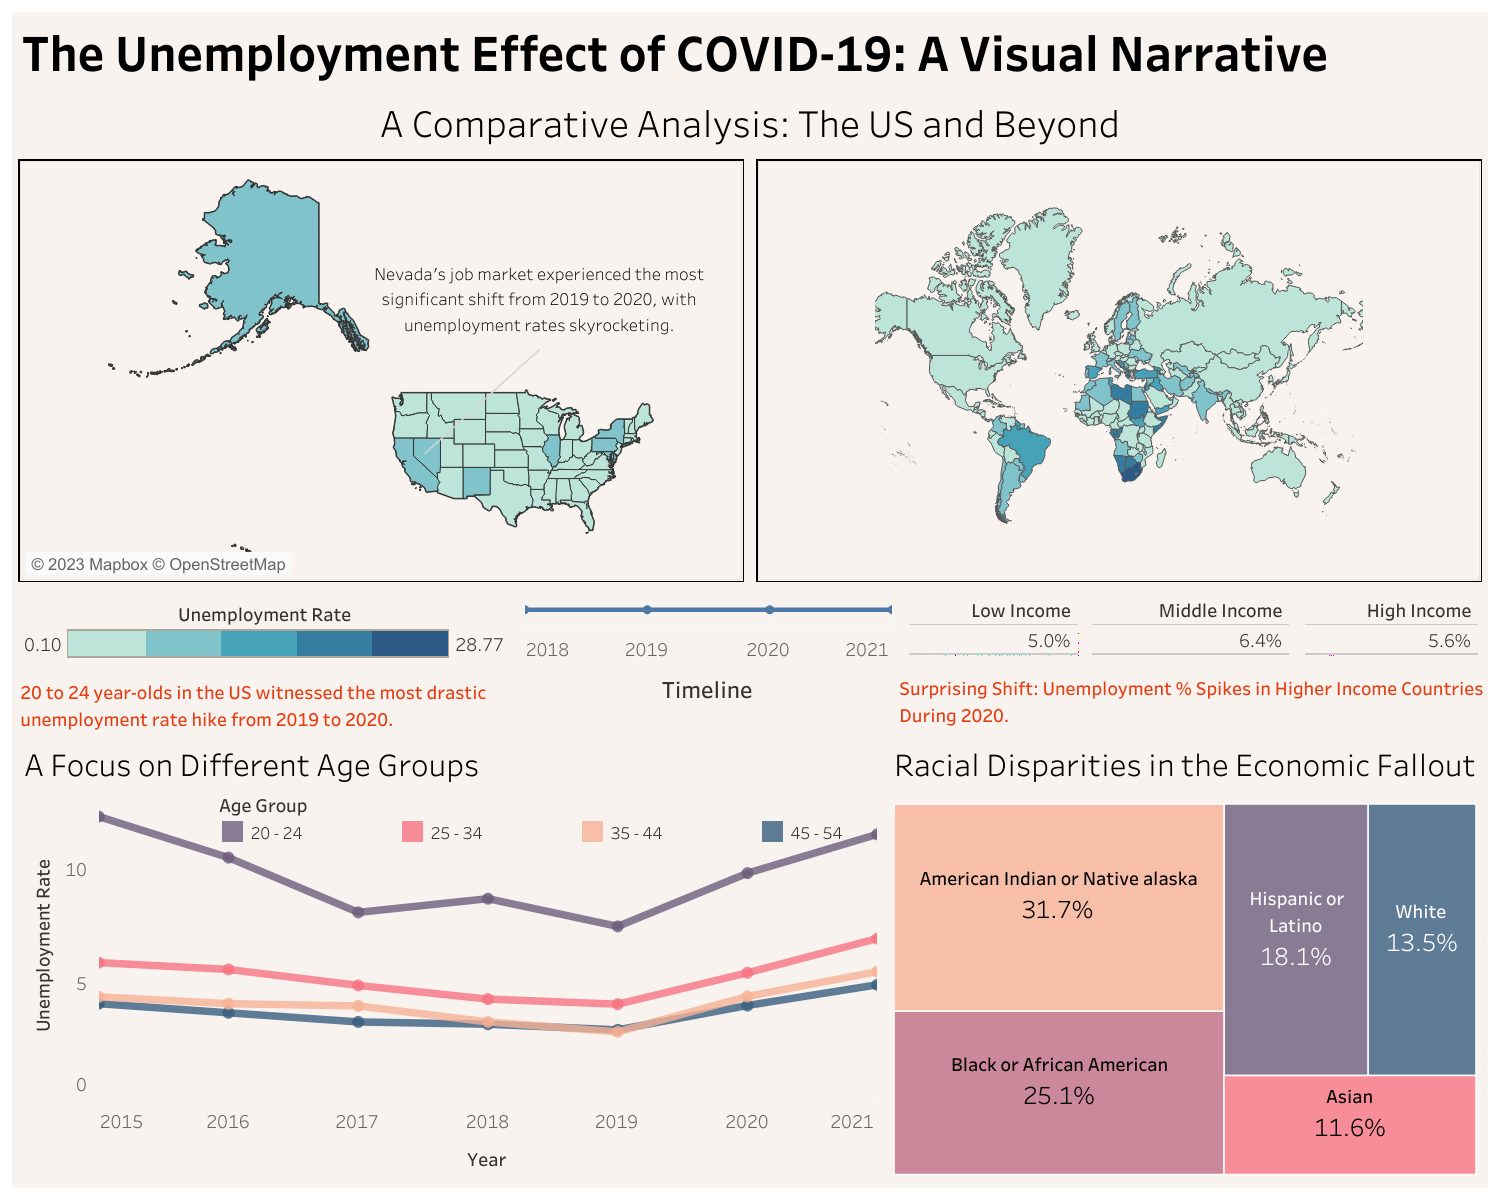

This screenshot's page, from the dashboard's own definition file:
{"tool":"tableau","page":{"name":"Dashboard 1","canvas":[1000,800],"ordinal":0},"visuals":[{"type":"title","box":[8,8,984,138]},{"type":"text","box":[8,146,984,58]},{"type":"worksheet","title":"USA","mark":"Automatic","box":[8,204,492,246.7]},{"type":"worksheet","title":"Global","mark":"Automatic","box":[500,204,492,246.7]},{"type":"text","box":[11,435,333,69]},{"type":"text","box":[597,435,397,64]},{"type":"legend","title":"Global","param":"[federated.035mz2v1e87d8p17b047v1lpa8gg].[sum:Unemployment Rate:qk]","box":[8,450.7,337,79.6]},{"type":"worksheet","title":"Year Filter","mark":"Line","cols":["Year"],"box":[345,450.7,257,79.6]},{"type":"worksheet","title":"Low Income Category","mark":"Text","cols":["Income Category"],"box":[602,450.7,122,79.6]},{"type":"worksheet","title":"Middle Income Category","mark":"Text","cols":["Income Category"],"box":[724,450.7,142,79.6]},{"type":"worksheet","title":"High Income Category","mark":"Text","cols":["Income Category"],"box":[866,450.7,126,79.6]},{"type":"legend","title":"Unemployment by Age","param":"[federated.1gt6nrf1vyuuny15rups71tugi63].[none:Age Group:nk]","box":[145,525,483,55]},{"type":"worksheet","title":"Unemployment by Age","mark":"Line","rows":["Unemployment Rate"],"cols":["Year"],"box":[8,530.3,580,261.7]},{"type":"worksheet","title":"Unemployment by Race","mark":"Automatic","box":[588,530.3,404,261.7]}]}

Visuals, with their boxes in screenshot pixels (x1, y1, x2, y2), scaled from the page's 1000x800 canvas onto the 1499x1199 screenshot:
title: left=12, top=12, right=1487, bottom=219
text: left=12, top=219, right=1487, bottom=306
"USA" worksheet: left=12, top=306, right=750, bottom=675
"Global" worksheet: left=750, top=306, right=1487, bottom=675
text: left=16, top=652, right=516, bottom=755
text: left=895, top=652, right=1490, bottom=748
"Global" legend: left=12, top=675, right=517, bottom=795
"Year Filter" worksheet (Line marks): left=517, top=675, right=902, bottom=795
"Low Income Category" worksheet (Text marks): left=902, top=675, right=1085, bottom=795
"Middle Income Category" worksheet (Text marks): left=1085, top=675, right=1298, bottom=795
"High Income Category" worksheet (Text marks): left=1298, top=675, right=1487, bottom=795
"Unemployment by Age" legend: left=217, top=787, right=941, bottom=869
"Unemployment by Age" worksheet (Line marks): left=12, top=795, right=881, bottom=1187
"Unemployment by Race" worksheet: left=881, top=795, right=1487, bottom=1187
